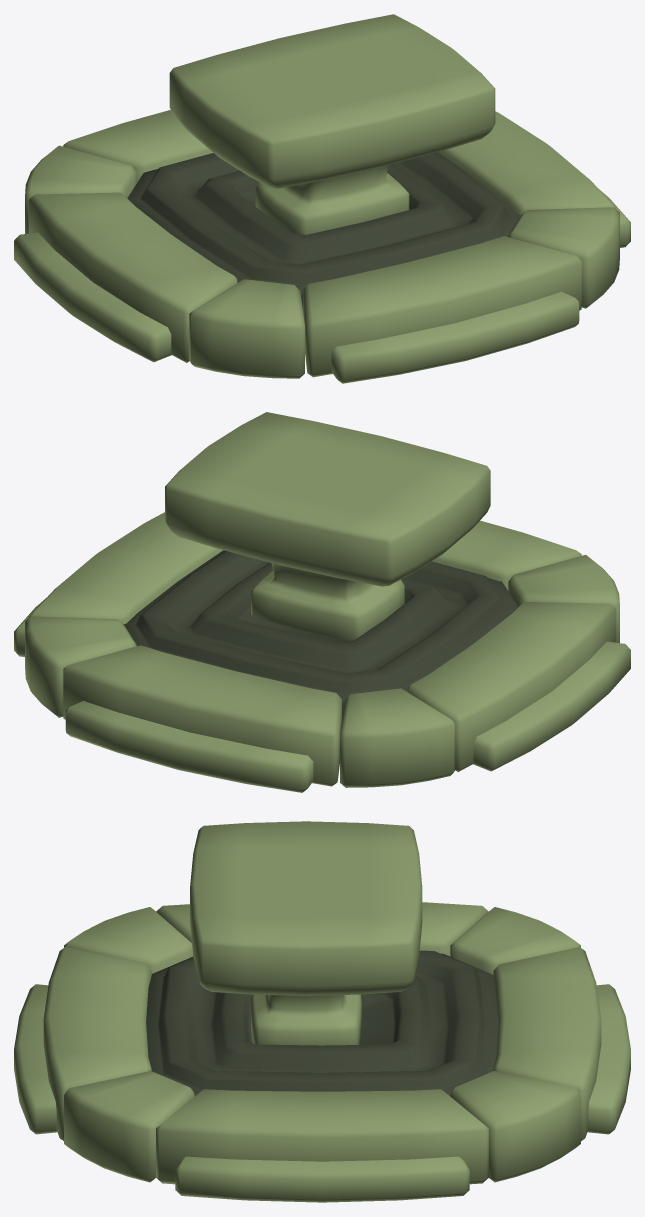
Rendered from Ruin.fbx.
The picture shows the model from 3 angles, top to bottom: view 1: azimuth 30°, elevation 25°; view 2: azimuth 150°, elevation 25°; view 3: azimuth 270°, elevation 25°; orthographic projection. The views are drawn at different scales.
Visible parts, largest first — view 1: Ruin; view 2: Ruin; view 3: Ruin.
Boxes of the visible parts, x1,y1,x2,y2 form: Ruin: (14,14,630,383); Ruin: (14,412,630,792); Ruin: (14,821,630,1202).
Bounding box in the file's own units: 101 × 34.84 × 101.
